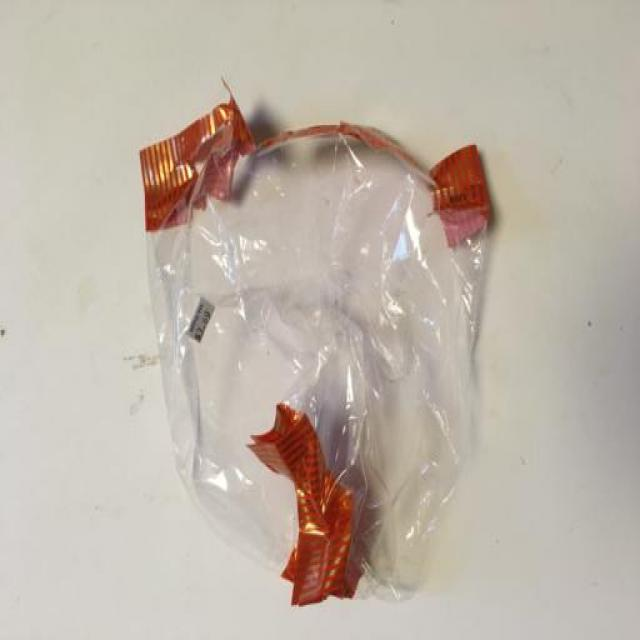paper: (124, 55, 541, 631)
